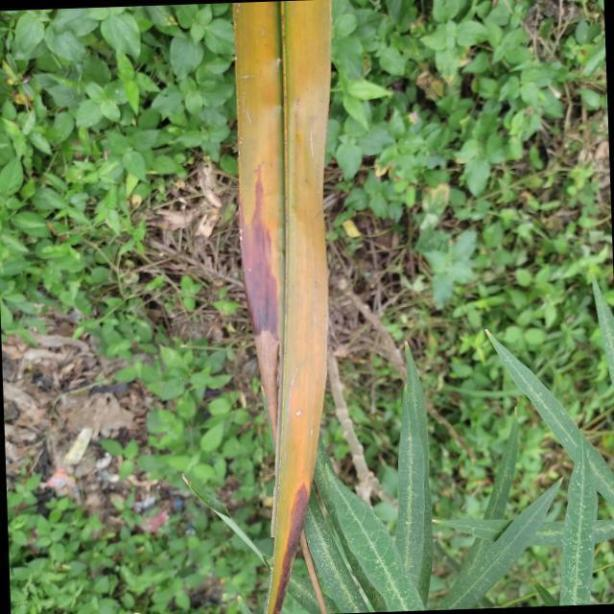Megnesium: (230, 0, 336, 614)
